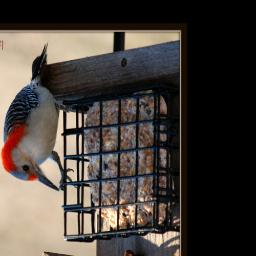Woodpecker: (1, 42, 76, 191)
